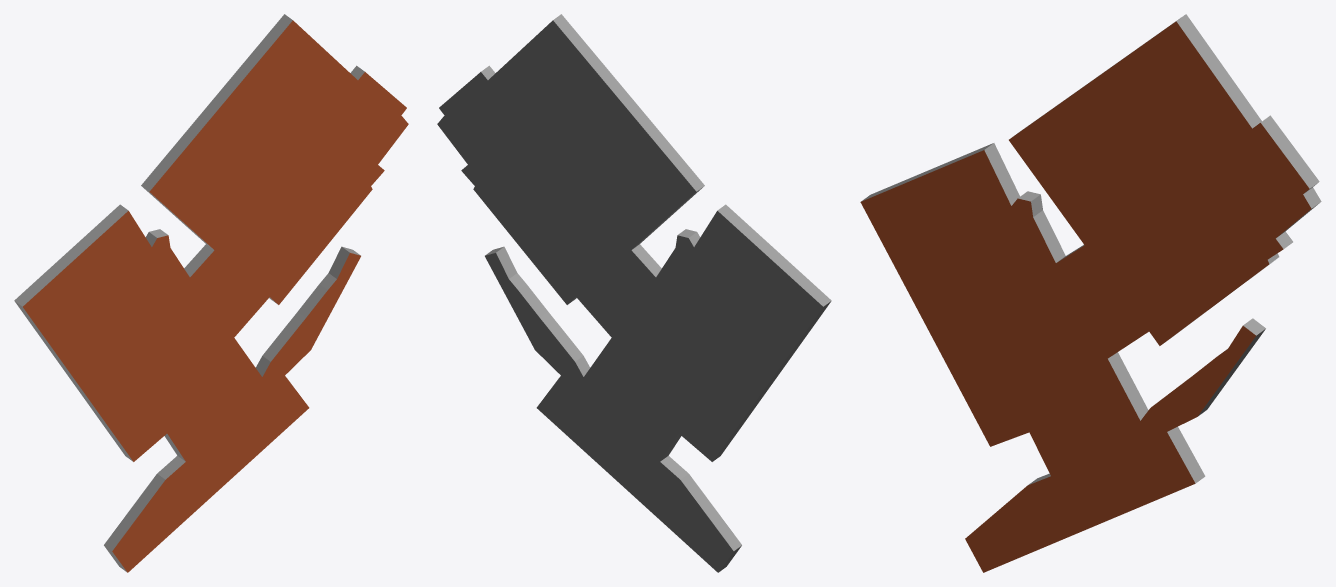
Rendered from construction_0150_assumed_A_Grande_construcao_h6m.obj.
3 renders of one model, left to right at view 1: azimuth 30°, elevation 25°; view 2: azimuth 150°, elevation 25°; view 3: azimuth 330°, elevation 25°, orthographic. The views are drawn at different scales.
Visible parts, largest first — view 1: construction_0150_assumed_A_Grande_construcao; view 2: construction_0150_assumed_A_Grande_construcao; view 3: construction_0150_assumed_A_Grande_construcao.
Boxes of the visible parts, x1,y1,x2,y2 form: construction_0150_assumed_A_Grande_construcao: (14,14,408,572); construction_0150_assumed_A_Grande_construcao: (437,14,831,572); construction_0150_assumed_A_Grande_construcao: (860,14,1321,572).
Size of the model in its own units: 158 by 200 by 6.
